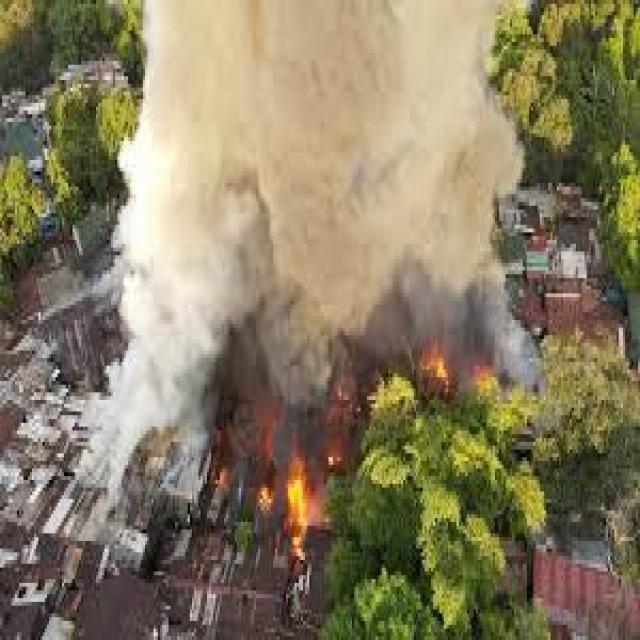Fire: (283, 457, 309, 556), (415, 334, 452, 394), (209, 454, 231, 497), (260, 474, 276, 518), (471, 358, 496, 384), (323, 442, 346, 466)
Smoke: (111, 5, 536, 409)
